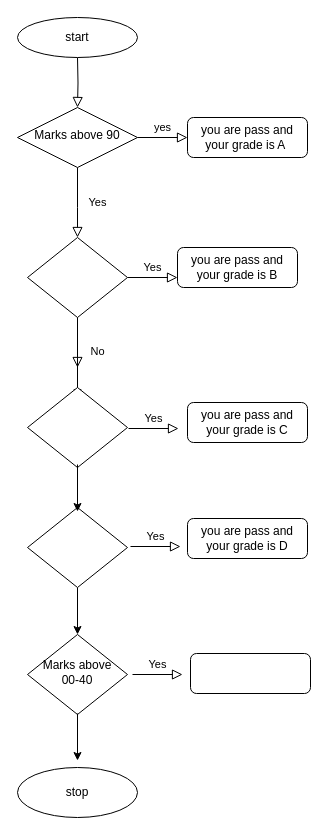
The diagram is 328 pixels wide and 835 high, and some of its shapes have lost their labels. Each missing label, with the centre of its shape:
"Marks above 60-70" goes at (x=77, y=547).
"Marks above 70-80" goes at (x=77, y=427).
"Marks above 80-90" goes at (x=77, y=277).
"you are failed and your grade is E" goes at (x=250, y=673).
